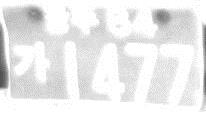1: (59, 37, 82, 103)
4: (90, 41, 126, 103), (132, 7, 158, 41)
7: (156, 42, 195, 106), (121, 39, 157, 103)
8: (103, 6, 133, 39)
가: (11, 39, 53, 87)
광주_O: (41, 4, 101, 37)
